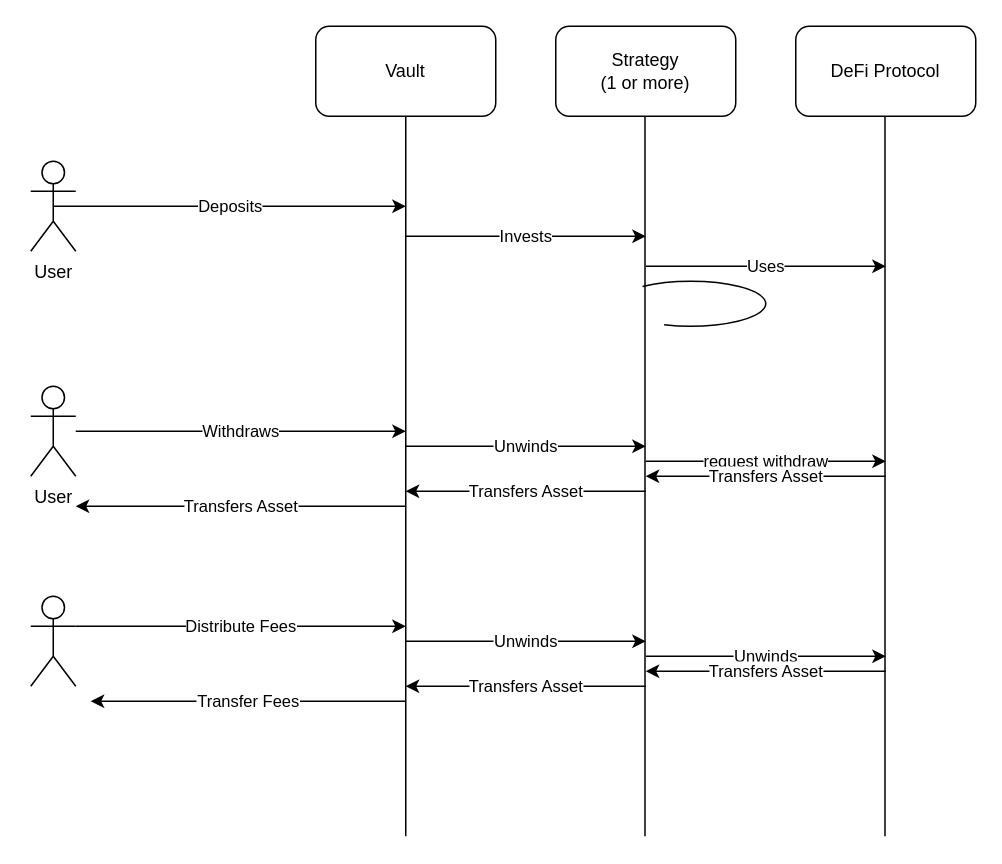
The diagram is 1002 pixels wide and 864 high, and some of its shapes have lost their labels. The centre of each missing label's shape, as x and y in pixels:
"App Builder" goes at [52,640].
"Reinvests profit" goes at [690,303].
